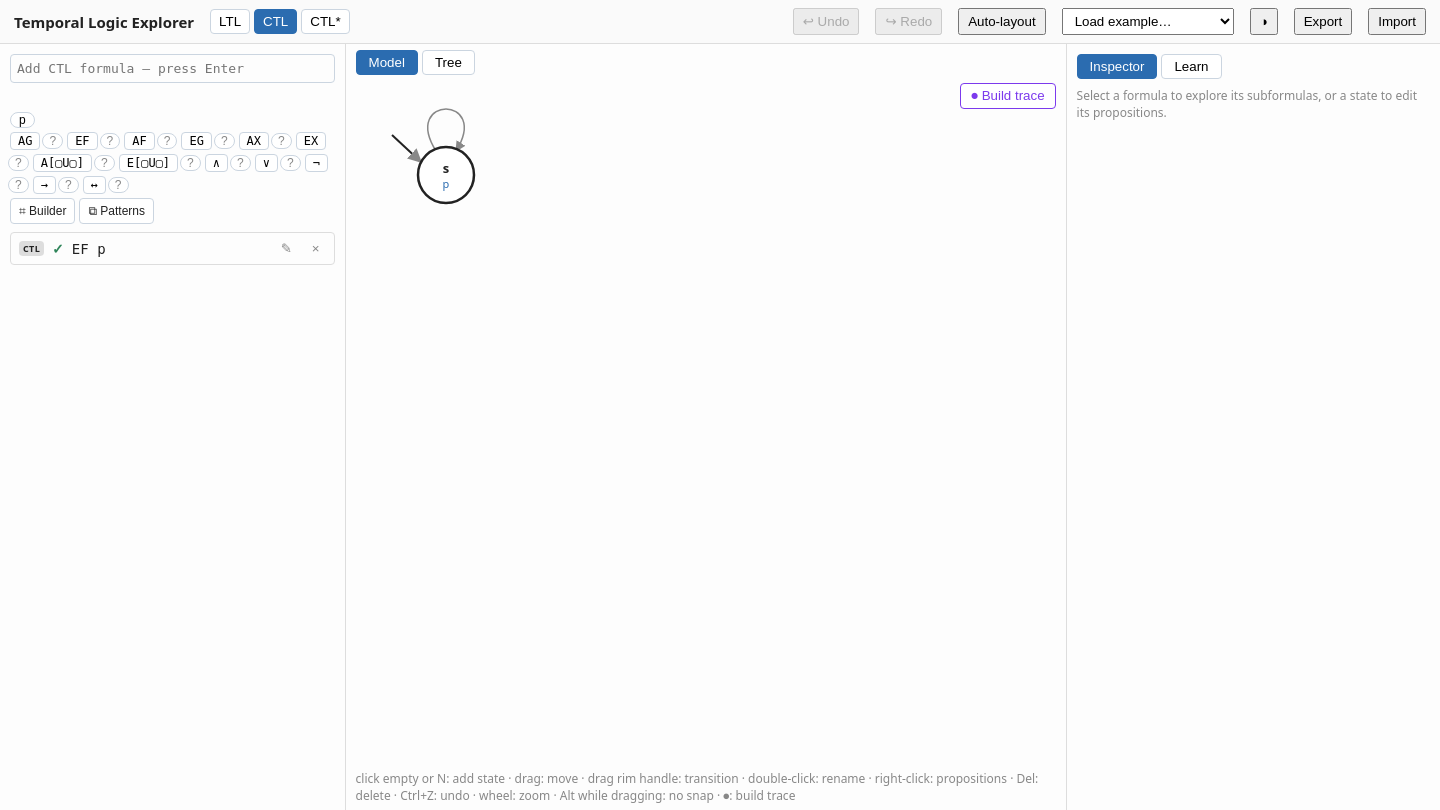
it: learn ? links › inspector anchors exist for tutorial highlights (tree + evidence)
This screenshot has width=1440, height=810.
Click the text "EF p". click: (89, 248)
box: [72,240,106,256]
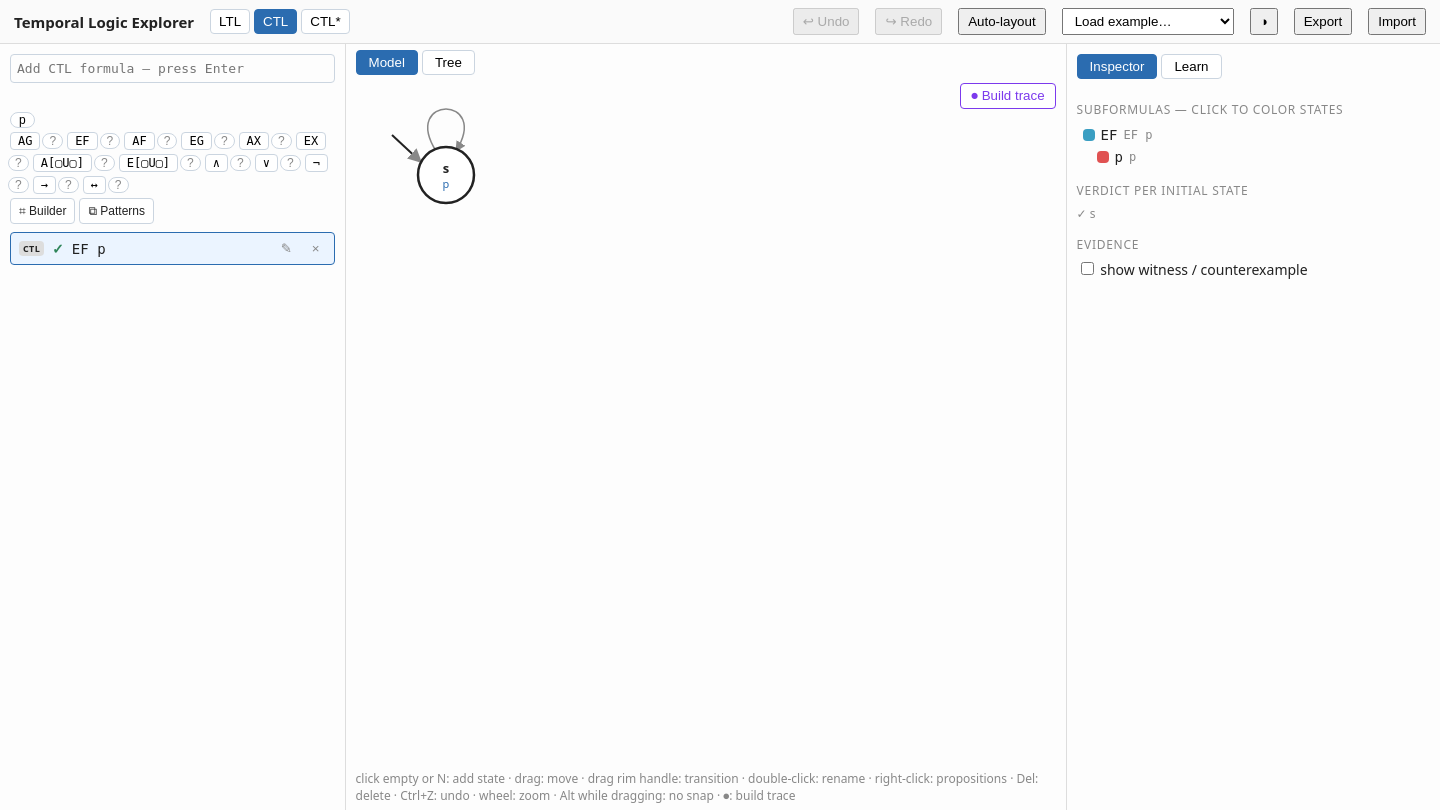
Expected: the element showing "EF EF p p p" is shown, [1083,127,1152,165]
Expected: the label "show witness / counterexample" is shown, [1077,260,1308,279]
